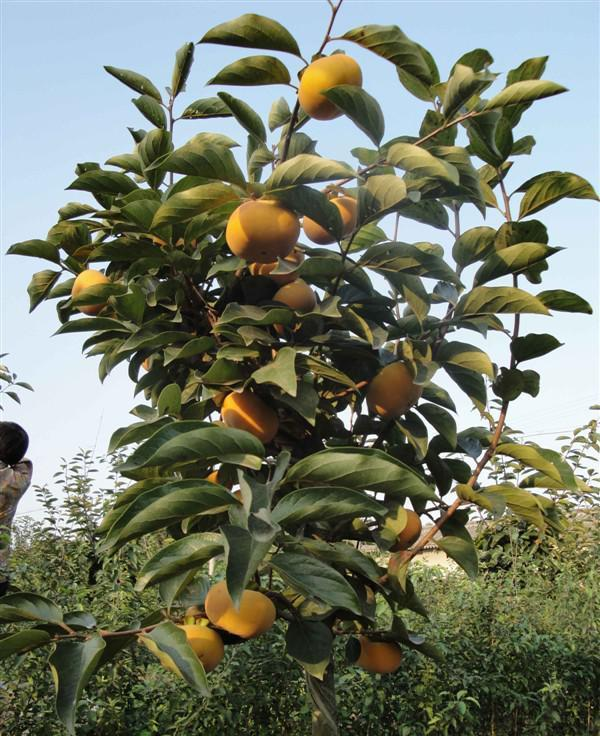apple: (226, 200, 298, 262), (297, 54, 362, 121), (204, 579, 274, 640), (221, 390, 279, 446), (164, 624, 223, 676), (304, 196, 357, 246), (370, 363, 419, 415), (70, 269, 112, 315), (381, 510, 420, 551), (361, 639, 402, 677), (271, 281, 315, 315)
